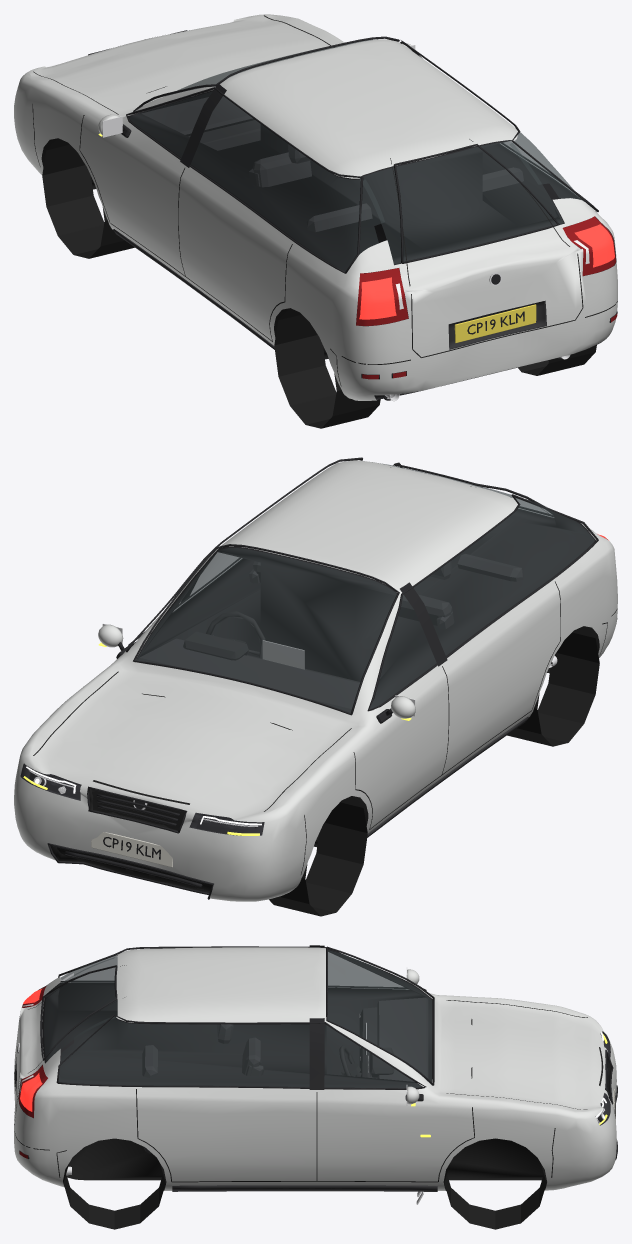
File: civ_compact.glb
3 renders of one model, top to bottom at view 1: azimuth 30°, elevation 25°; view 2: azimuth 150°, elevation 25°; view 3: azimuth 270°, elevation 25°, orthographic. The views are drawn at different scales.
Parts seen in each view (by area): view 1: civ_compact; view 2: civ_compact; view 3: civ_compact.
Boxes of the visible parts, x1,y1,x2,y2 form: civ_compact: (14,14,617,428); civ_compact: (14,457,617,916); civ_compact: (14,945,617,1229).
Size of the model in its own units: 2 by 1.5 by 4.04.
